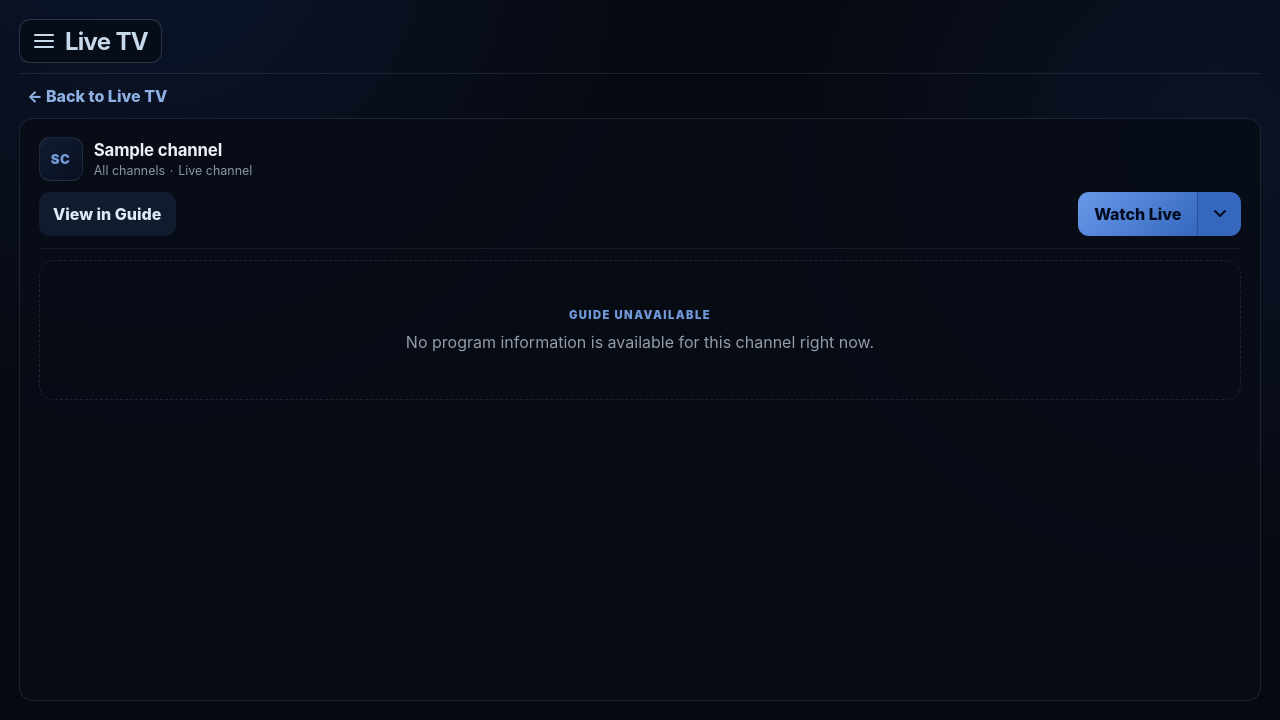
Test case: opens shared channels alone and restores the channel browser on request
expect the element named "Selected channel: Sample channel" is shown: met, box [39, 137, 1241, 249]
Click the button "← Back to Live TV": (97, 96) [19, 74, 175, 118]
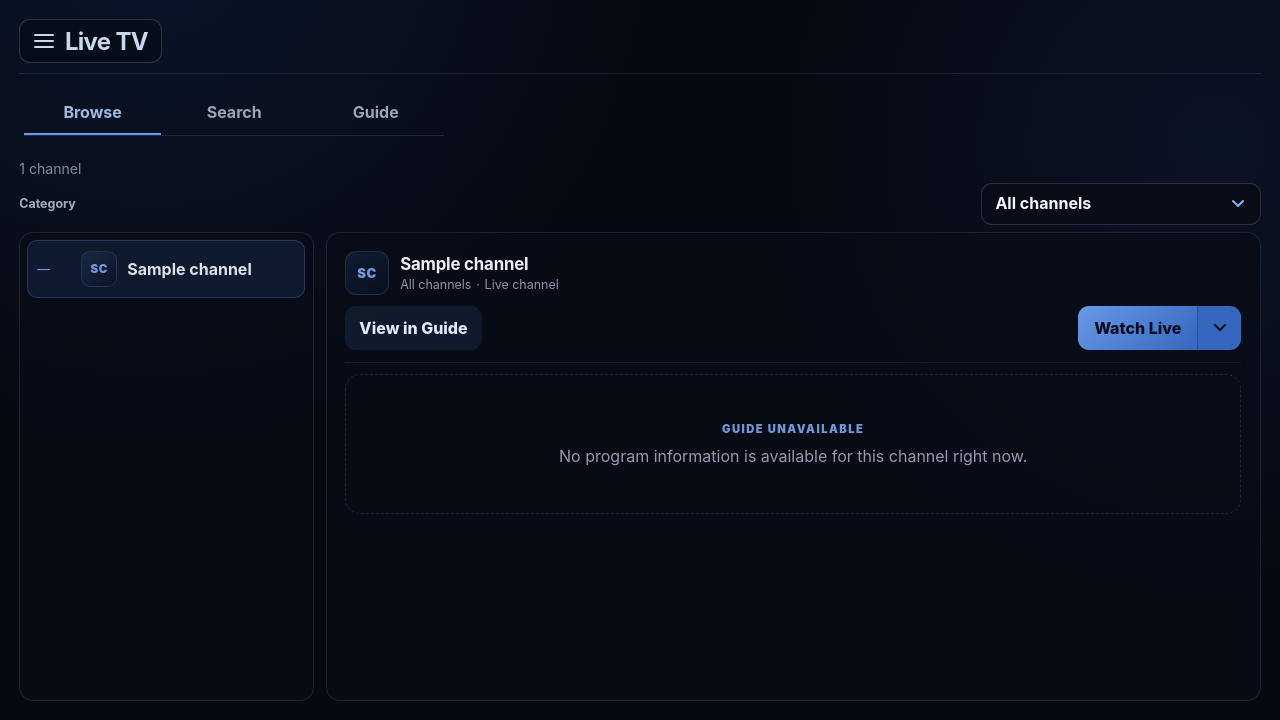
expect the element named "Channel list" is shown: met, box [19, 232, 314, 701]
